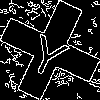Y: (25, 25, 74, 80)
